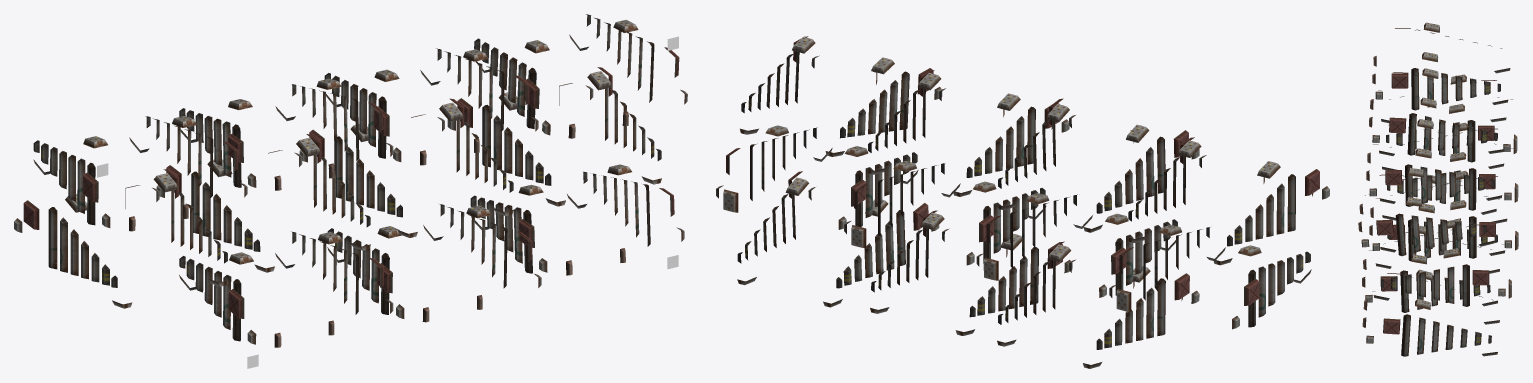
File: prop_static_tan_container_01_01_0.glb
3 views of the same model, side by side, from view 1: azimuth 30°, elevation 25°; view 2: azimuth 150°, elevation 25°; view 3: azimuth 270°, elevation 25° (orthographic). The views are drawn at different scales.
Parts seen in each view (by area): view 1: tan_container_01_01_LOD0; view 2: tan_container_01_01_LOD0; view 3: tan_container_01_01_LOD0.
Part boxes in pixels (left/top/right/bottom): tan_container_01_01_LOD0: left=14, top=14, right=687, bottom=347; tan_container_01_01_LOD0: left=716, top=36, right=1329, bottom=368; tan_container_01_01_LOD0: left=1358, top=22, right=1518, bottom=356.
Size of what is drawn, in the model's own units: 9.56 by 3.78 by 3.34.
Materials: 3 (1 with a texture image).
